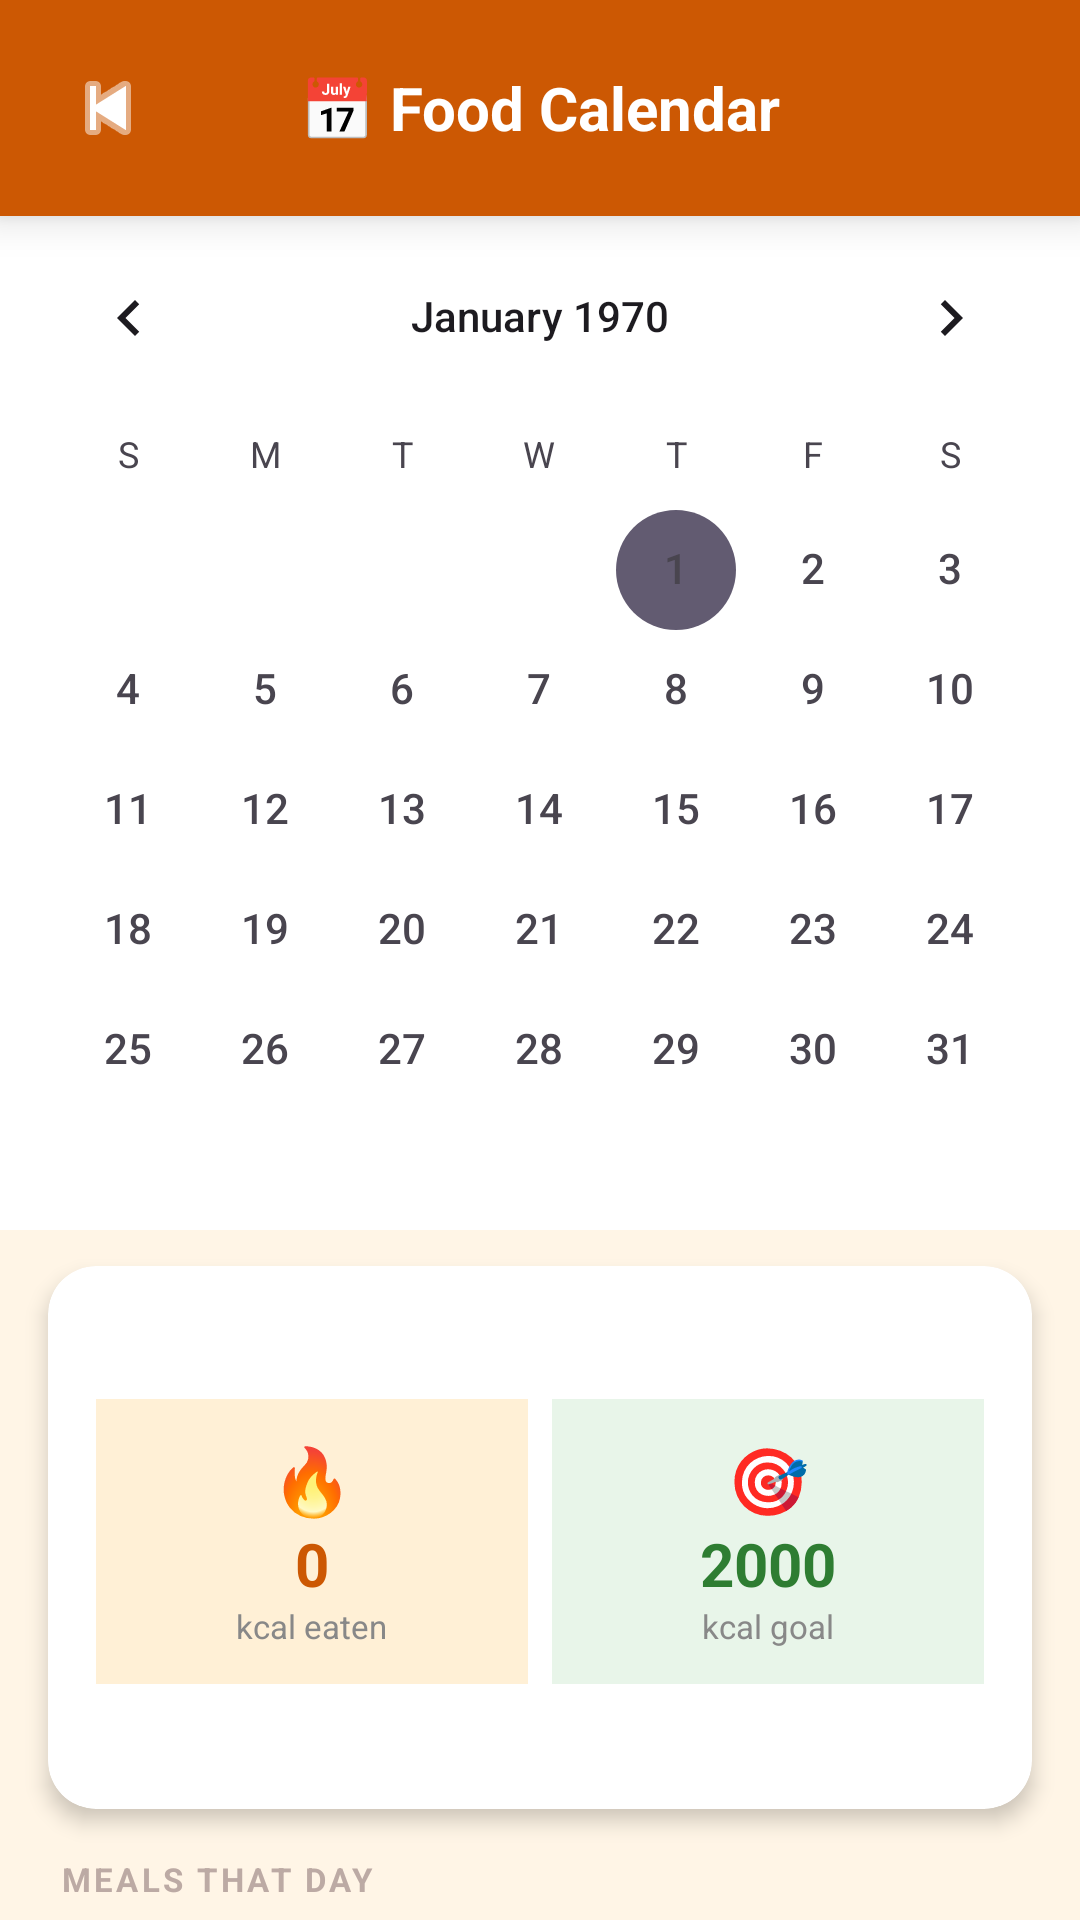

Icon bounding boxes for this 1080x1920 phone screenshot, format (x1, y1, x2, y2):
Back: (85, 81, 131, 135)
